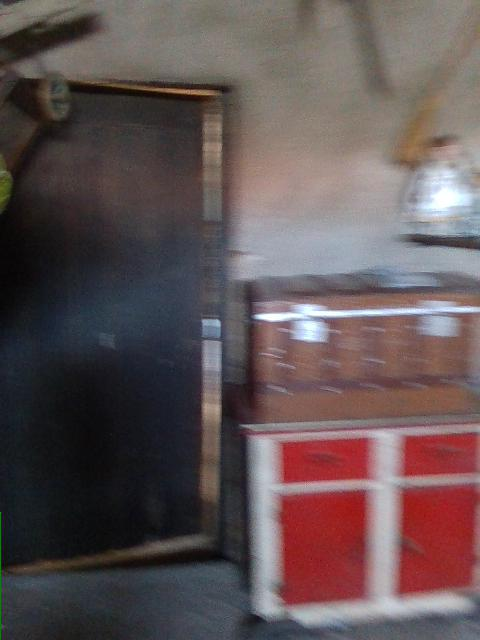door: (1, 78, 235, 576)
